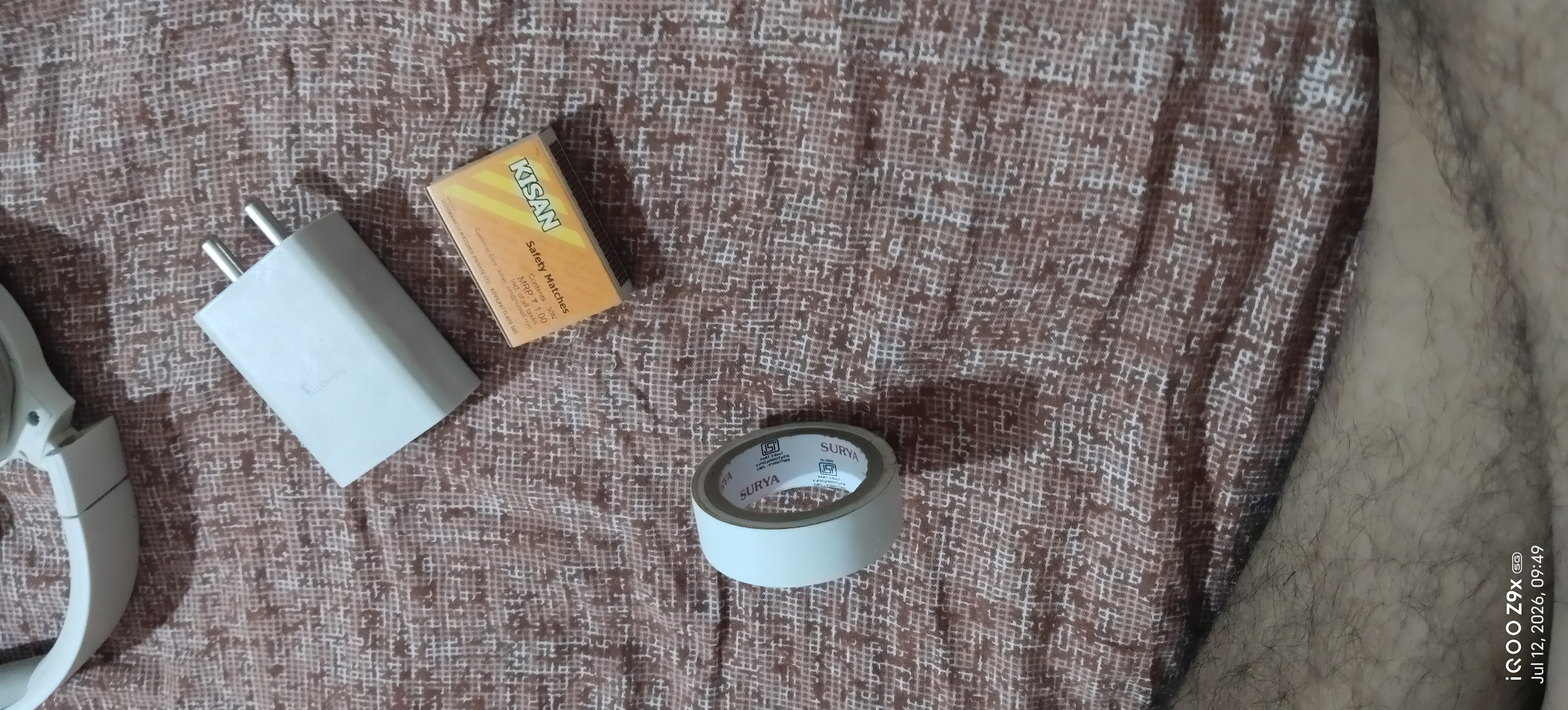charger: (180, 178, 478, 511)
matchbox: (407, 107, 644, 365)
tape_roll: (670, 405, 912, 616)
